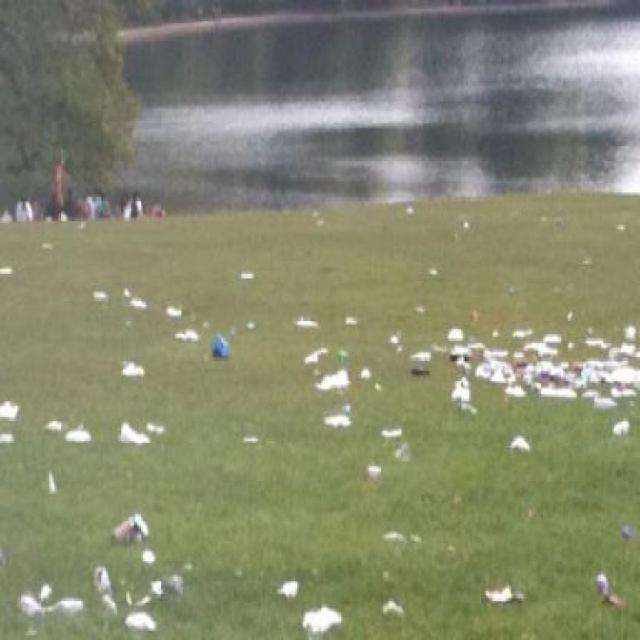garbage: (426, 289, 639, 460), (299, 288, 378, 480), (23, 548, 166, 639), (539, 197, 634, 281), (372, 526, 436, 638), (43, 392, 93, 520), (162, 295, 243, 367), (596, 503, 639, 638), (402, 208, 478, 282), (80, 265, 159, 318), (274, 566, 342, 626), (97, 497, 160, 554), (109, 408, 173, 461), (477, 552, 524, 624), (0, 385, 23, 476), (117, 352, 150, 396), (232, 257, 263, 287)
